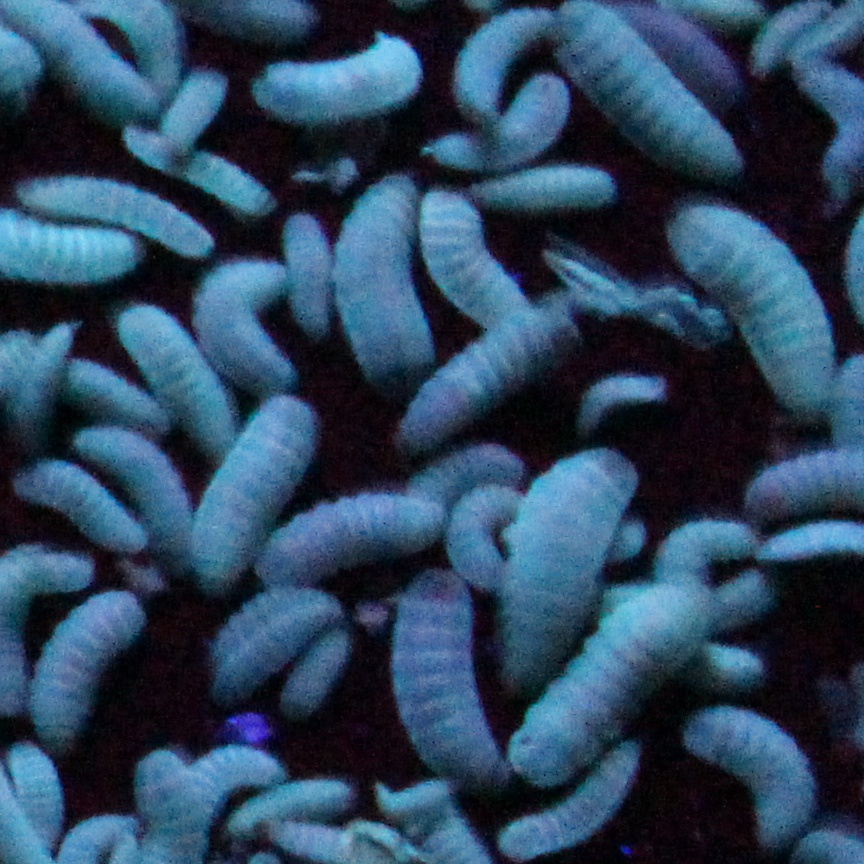larve: (664, 204, 840, 418), (523, 579, 709, 775), (498, 454, 640, 694), (402, 306, 584, 446), (333, 173, 445, 380), (202, 396, 317, 592), (400, 575, 509, 777), (690, 701, 815, 853), (17, 161, 214, 256), (114, 303, 240, 451), (38, 589, 141, 756), (419, 186, 529, 334), (193, 260, 309, 392), (252, 34, 424, 120), (124, 127, 281, 218), (252, 503, 450, 575), (455, 8, 552, 120), (17, 320, 81, 449), (653, 504, 752, 580), (465, 167, 619, 213), (278, 210, 328, 339), (286, 623, 352, 718), (572, 373, 672, 429), (169, 60, 224, 144)
